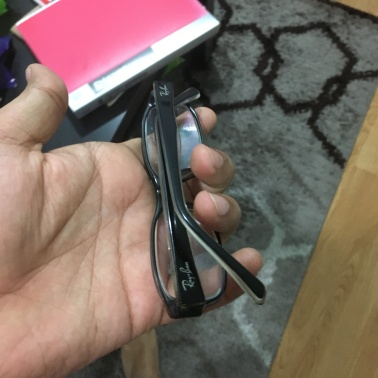glasses: (137, 81, 246, 315)
